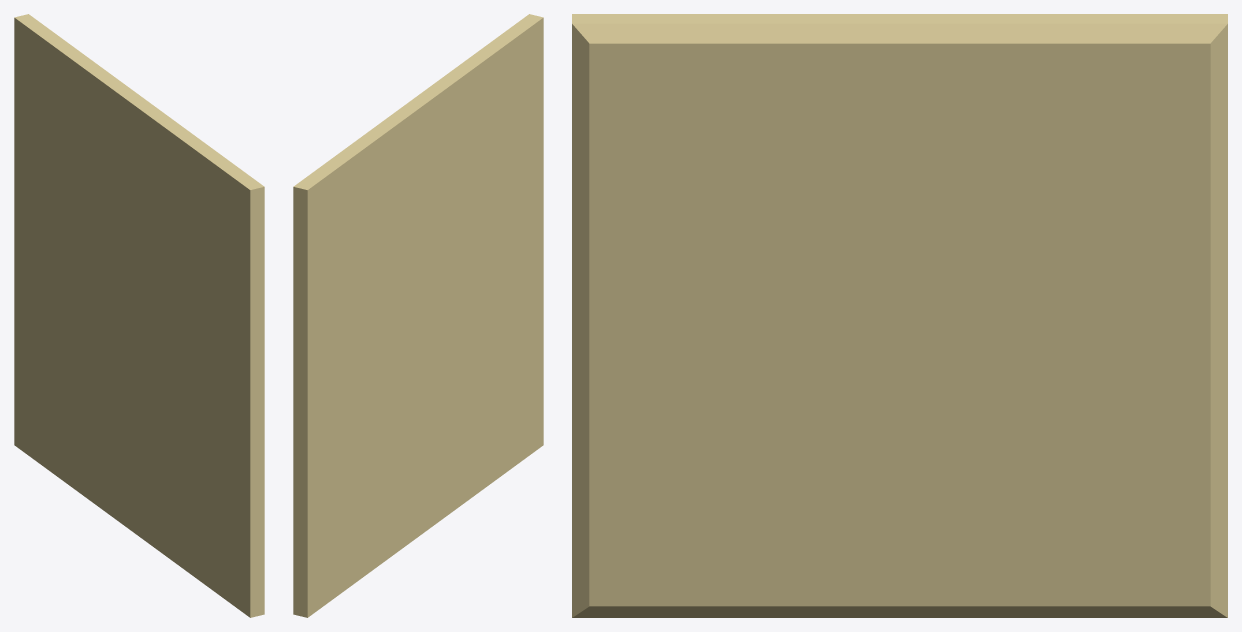
The model's file is fliese.fbx.
The picture shows the model from 3 angles, left to right: view 1: azimuth 30°, elevation 25°; view 2: azimuth 150°, elevation 25°; view 3: azimuth 270°, elevation 25°; orthographic projection. The views are drawn at different scales.
Parts seen in each view (by area): view 1: Cube; view 2: Cube; view 3: Cube.
Part boxes in pixels (left/top/right/bottom): Cube: left=14, top=14, right=264, bottom=617; Cube: left=293, top=14, right=543, bottom=617; Cube: left=572, top=14, right=1227, bottom=617.
Size of the model in its own units: 1 by 20 by 20.
